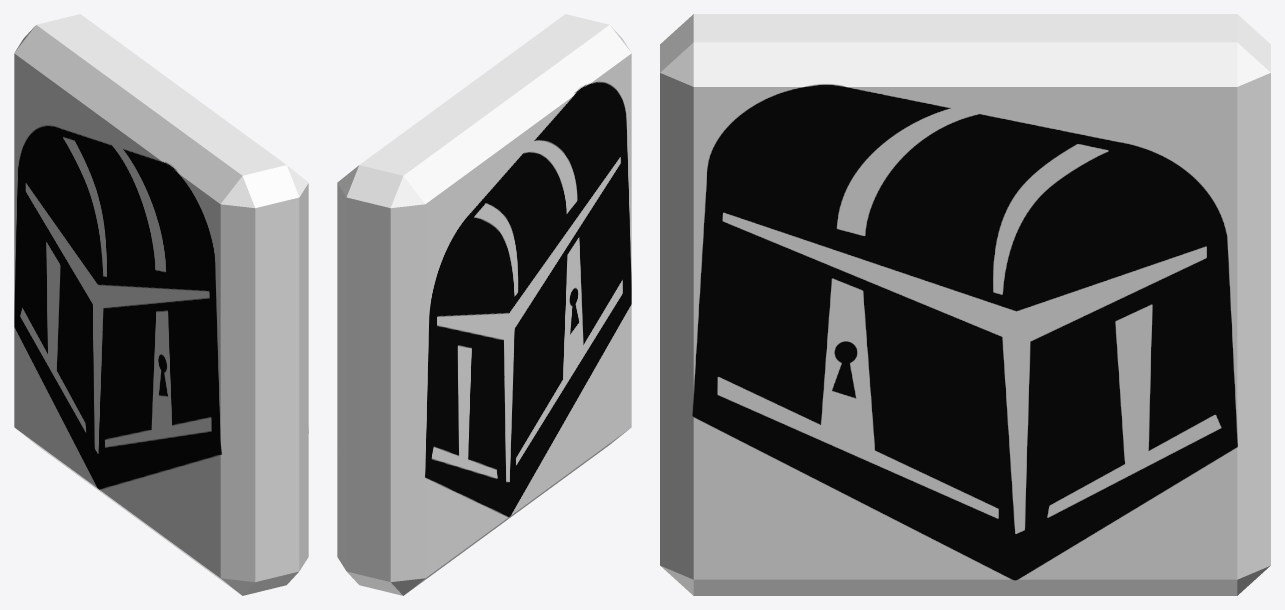
Rendered from Chest.obj.
3 views of the same model, side by side, from view 1: azimuth 30°, elevation 25°; view 2: azimuth 150°, elevation 25°; view 3: azimuth 270°, elevation 25° (orthographic). The views are drawn at different scales.
Parts seen in each view (by area): view 1: pCube2; view 2: pCube2; view 3: pCube2.
Boxes of the visible parts, x1=… form: pCube2: x1=14, y1=14, x2=308, y2=595; pCube2: x1=337, y1=14, x2=631, y2=595; pCube2: x1=660, y1=14, x2=1270, y2=595.
Bounding box in the file's own units: 0.641 × 2.91 × 2.91.
Materials: 1 (1 with a texture image).
